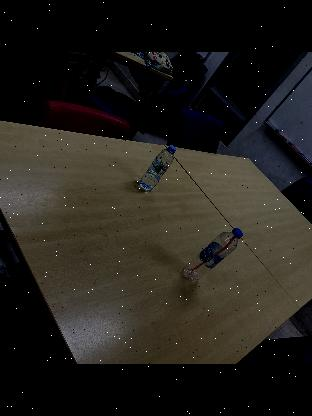Plastic Bottle: (183, 226, 243, 282), (136, 144, 176, 192)
